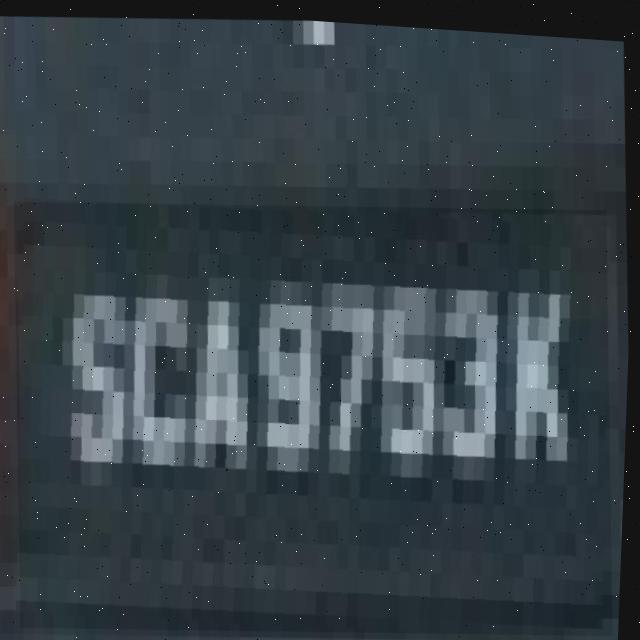LicensePlate: (3, 171, 630, 640)
